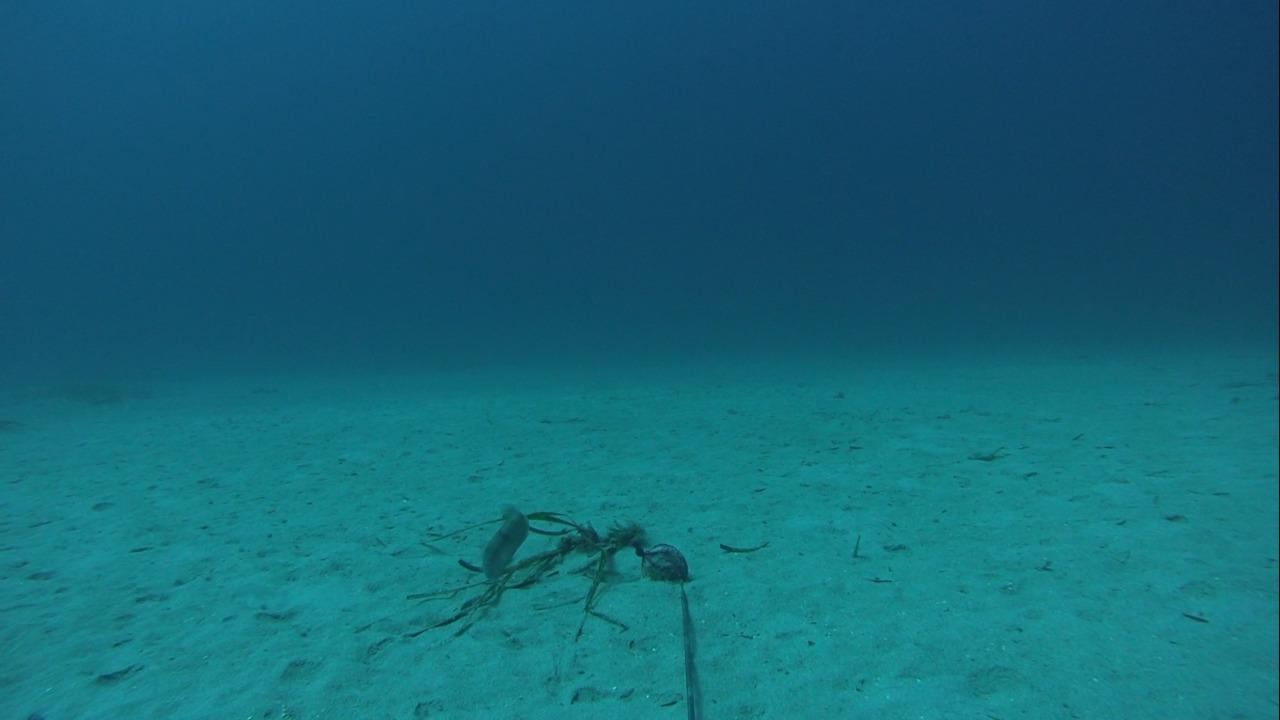raor: (480, 503, 529, 582)
